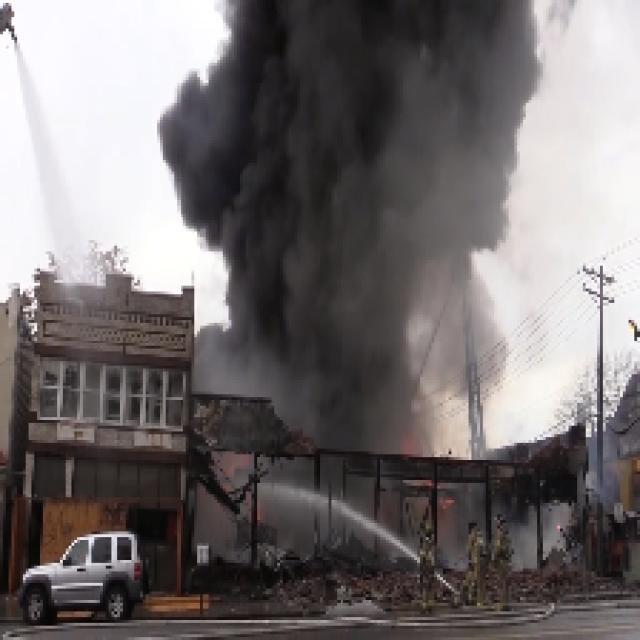Smoke: (168, 2, 563, 392)
